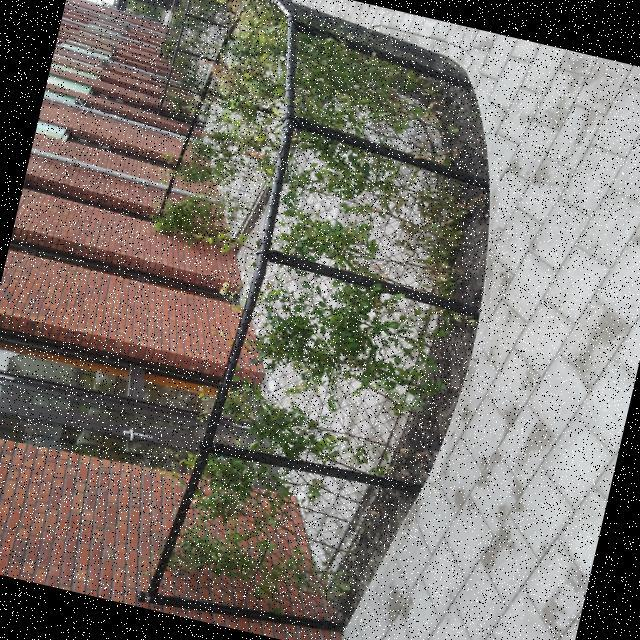fence line: (149, 217, 499, 639), (259, 33, 512, 306), (156, 0, 373, 254), (158, 0, 239, 121)
